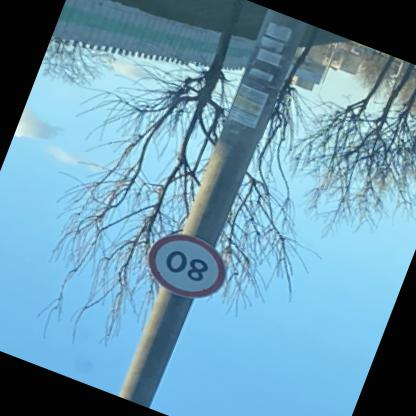speedlimit: (140, 225, 236, 311)
